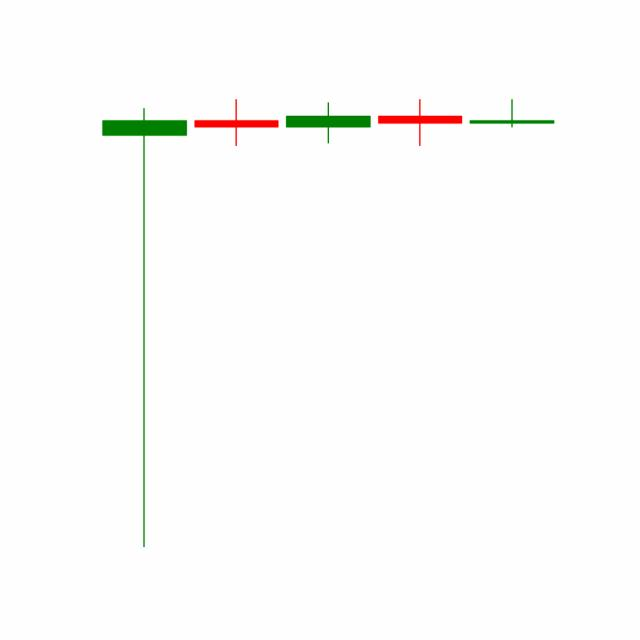Gravestone Doji: (464, 99, 558, 128)
